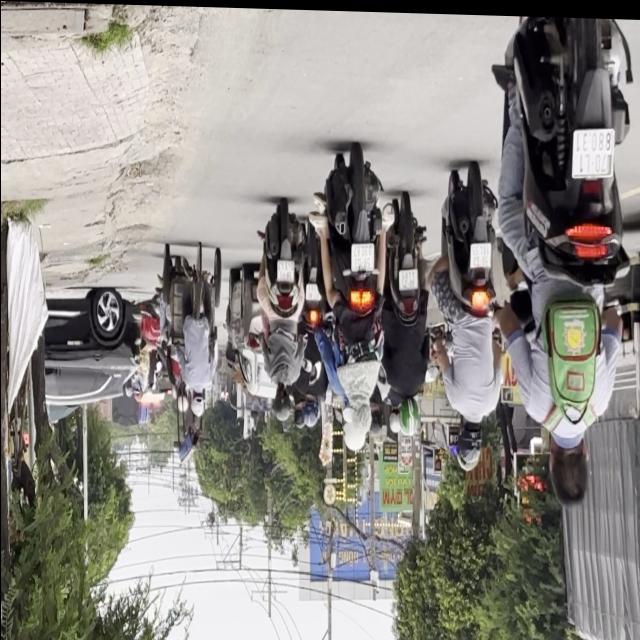helmet: (456, 415, 484, 469), (344, 387, 370, 431), (342, 416, 368, 451), (398, 393, 420, 434), (272, 382, 292, 421)
licenseplate: (483, 11, 640, 510), (313, 146, 386, 456), (436, 158, 504, 470), (378, 192, 434, 436), (254, 198, 310, 424)
motorcyclist: (547, 429, 592, 505)
nohelmet: (572, 125, 614, 174), (351, 239, 374, 268), (469, 238, 491, 265), (398, 266, 418, 288), (277, 258, 294, 280)
